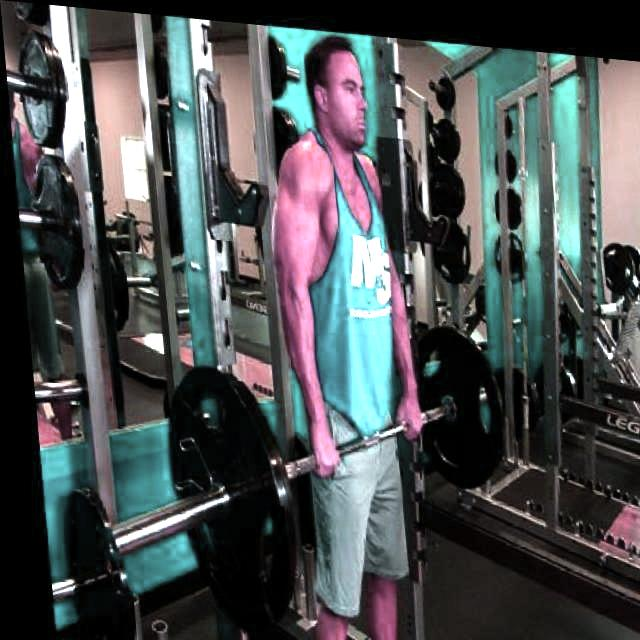barbell: (79, 350, 297, 640)
